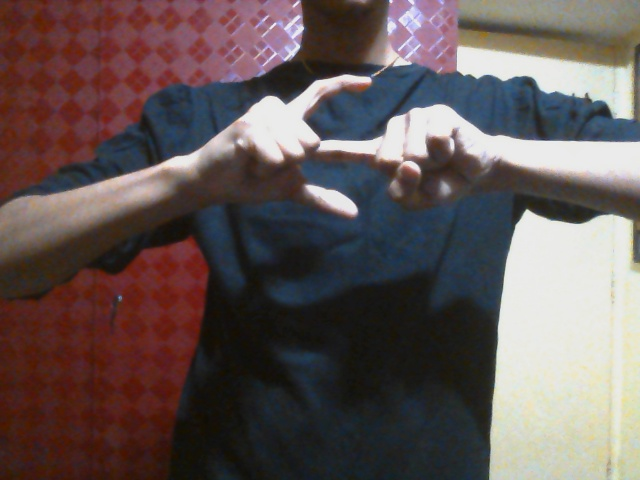E: (211, 75, 470, 225)
